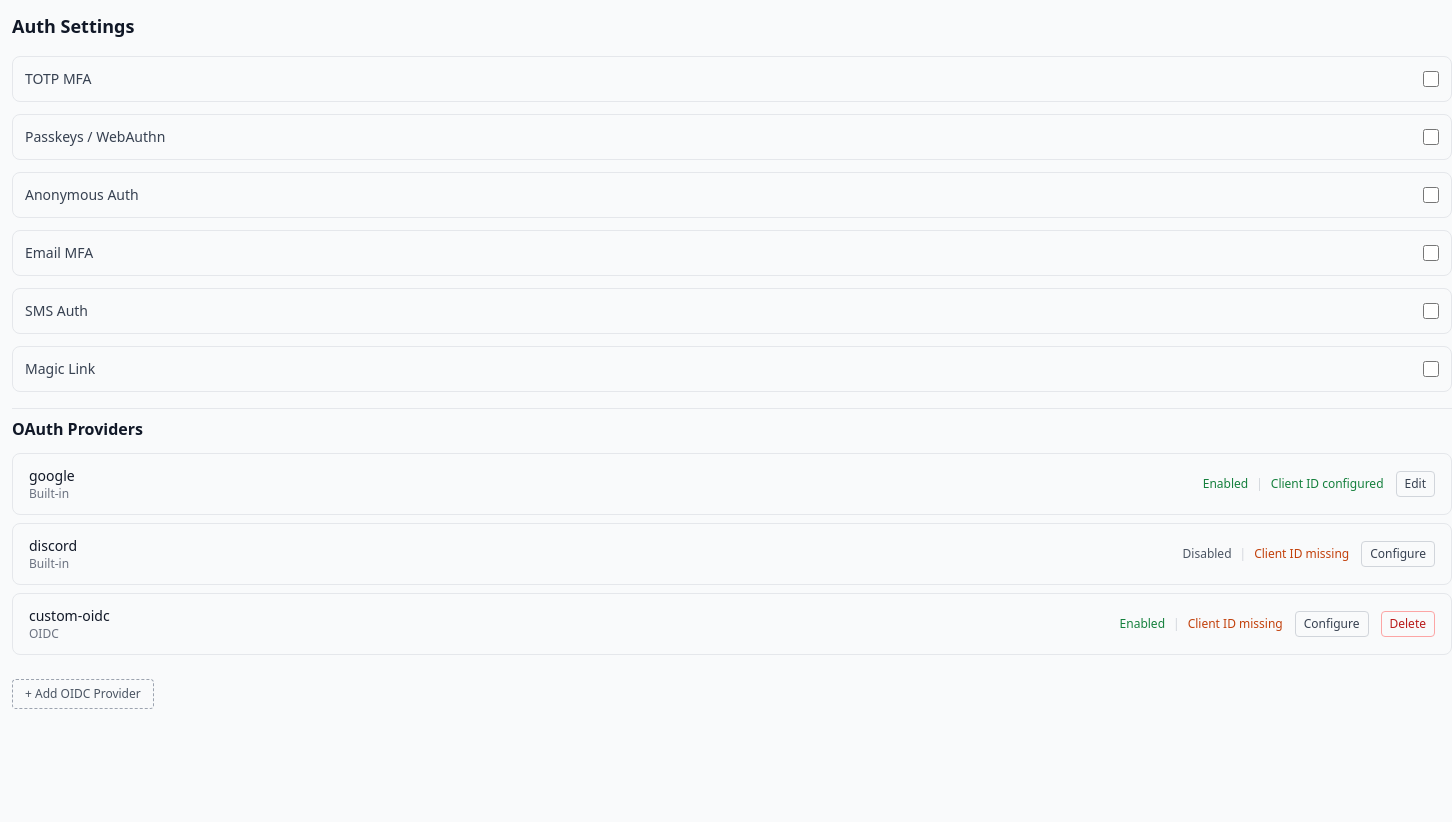
Scenario: AuthSettings › shows success feedback after toggling
Click the checkbox with test id "toggle-anonymous_auth_enabled" at (1431, 195), box [1423,187,1439,203]
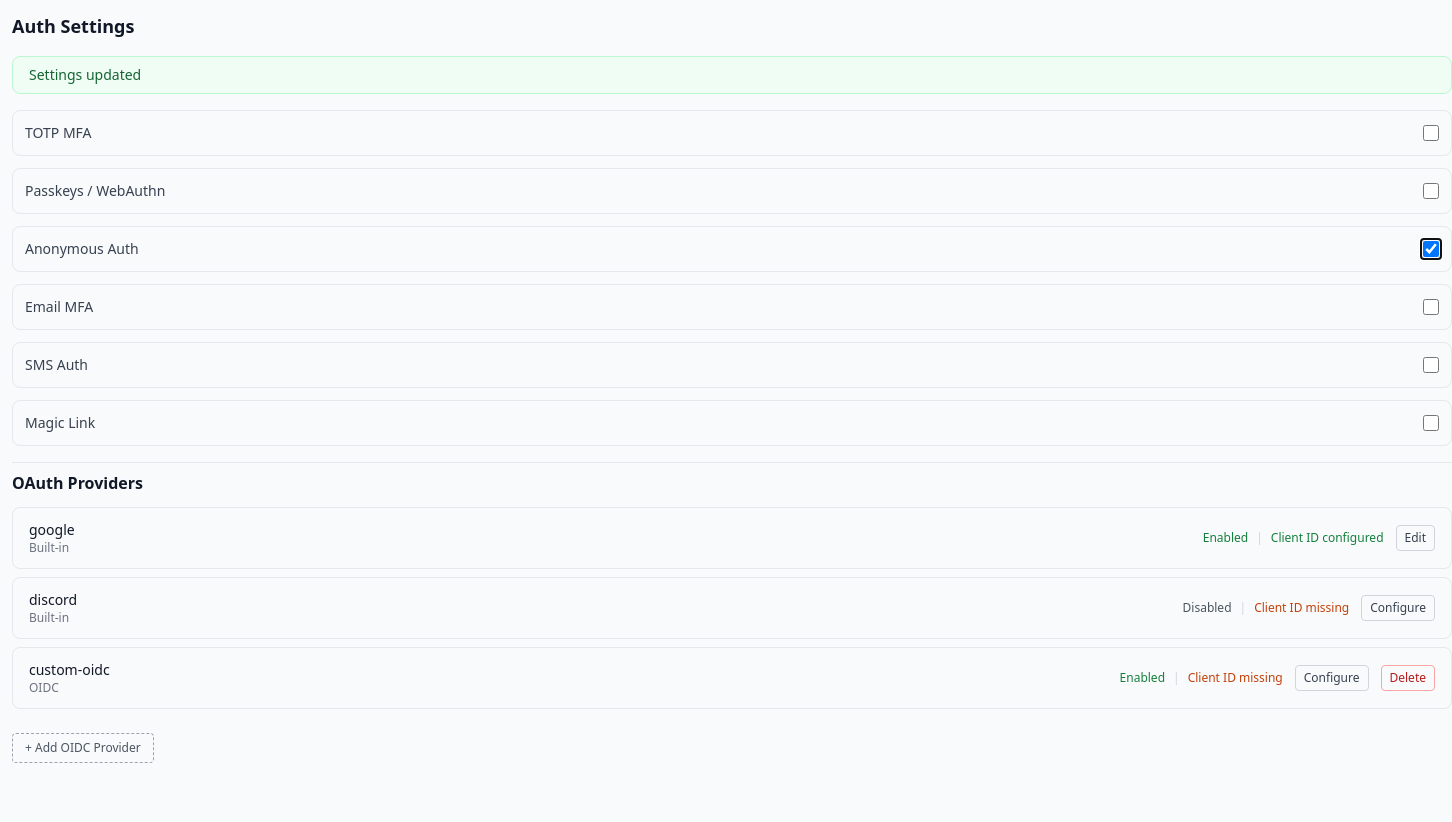
Check: the text "Settings updated" is shown, box [12,56,1451,94]
